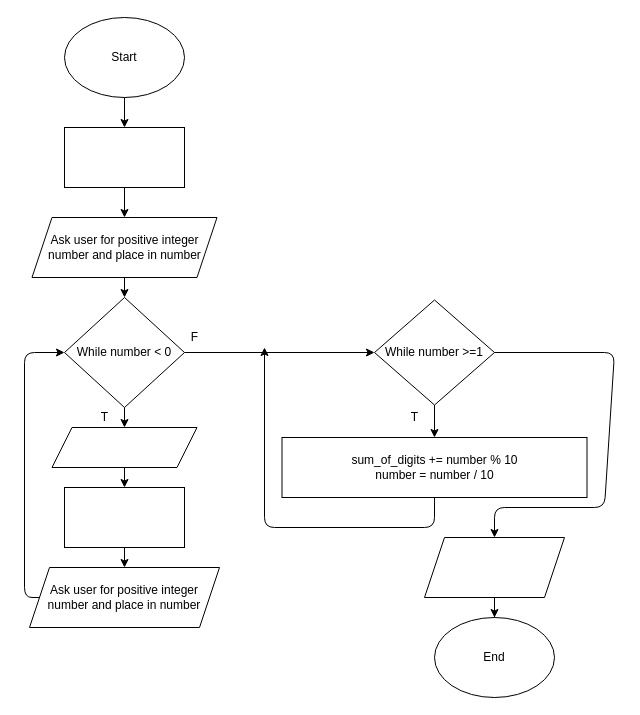
This 640x715 diagram has some shape labels left out. Each missing label, with the centre of its shape:
"number = 0" belongs at (124,517).
"Print invalid input" belongs at (124,447).
"print sum_of_digits" belongs at (494,567).
"sum_of_digits = 0" belongs at (124,157).
